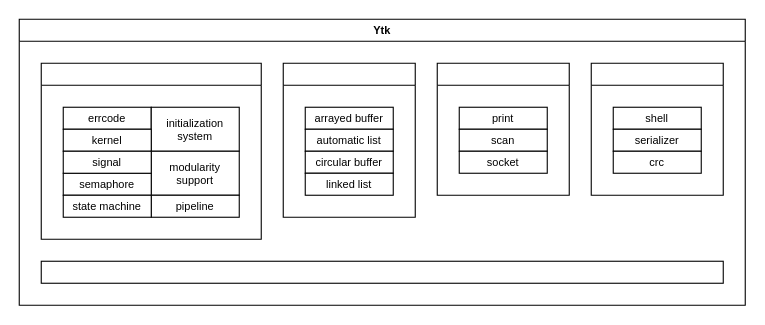
This 765x325 diagram has some shape labels left out. The box of each missing label's shape, as (x1, y1, x2, y2) in pixels:
BSP interface: (40, 260, 723, 283)
containers: (282, 62, 415, 217)
core: (40, 62, 261, 239)
io: (436, 62, 569, 195)
tools: (590, 62, 723, 195)
